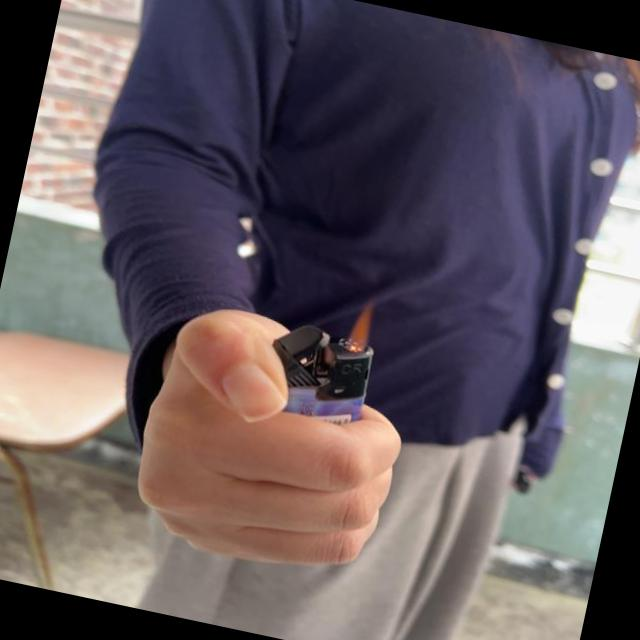Fire: (346, 296, 375, 354)
